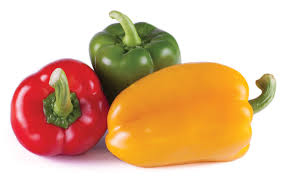bell pepper: (94, 51, 273, 170), (4, 50, 109, 161), (79, 9, 188, 102)
